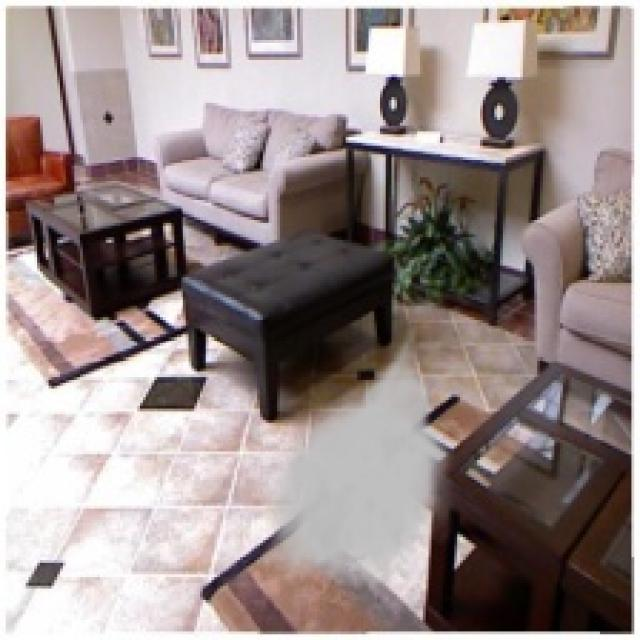smoke: (254, 317, 457, 592)
